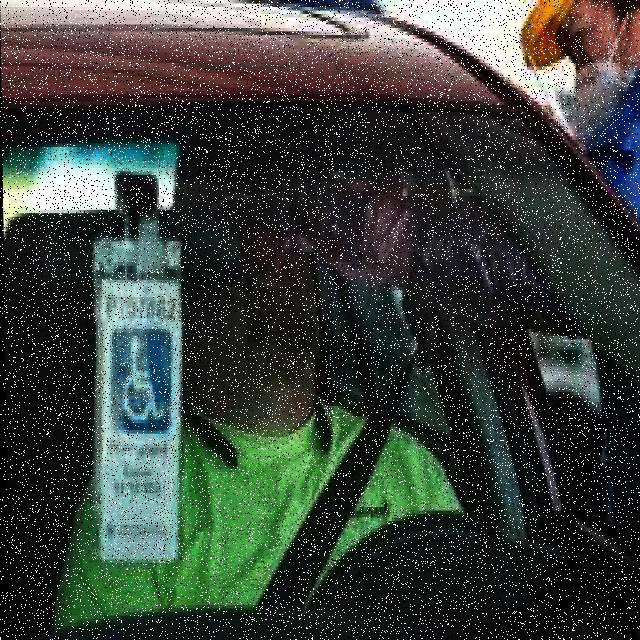seatbelt: (196, 380, 414, 624)
